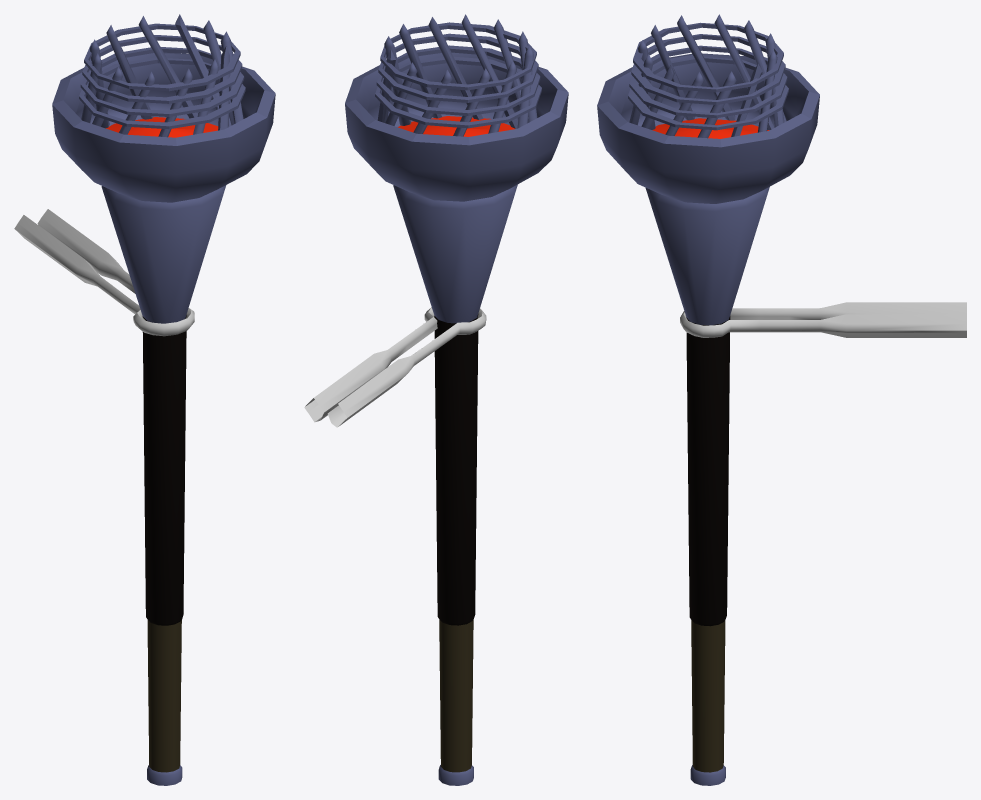
File: TorchWall_24.fbx
The picture shows the model from 3 angles, left to right: view 1: azimuth 30°, elevation 25°; view 2: azimuth 150°, elevation 25°; view 3: azimuth 270°, elevation 25°; orthographic projection.
Visible parts, largest first — view 1: TorchWall_24; view 2: TorchWall_24; view 3: TorchWall_24.
Boxes of the visible parts, x1,y1,x2,y2 form: TorchWall_24: [14, 14, 275, 785]; TorchWall_24: [304, 14, 568, 785]; TorchWall_24: [597, 14, 966, 785].
Bounding box in the file's own units: 19.64 × 32.57 × 71.72.
